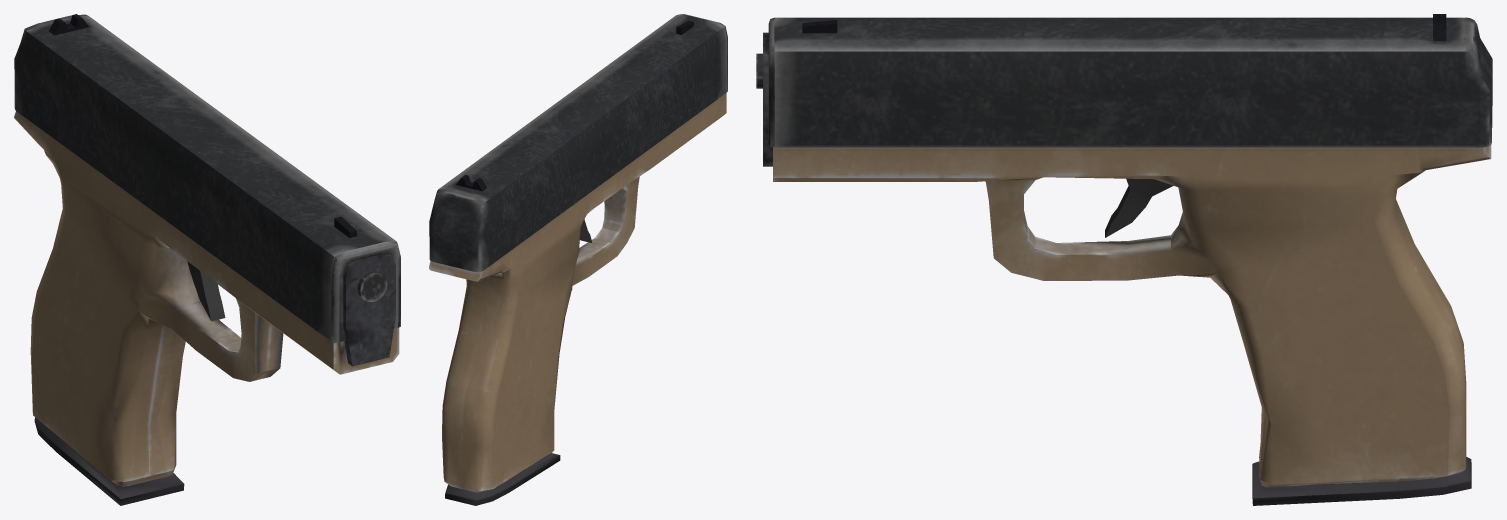
Rendered from PistolTextured.glb.
3 renders of one model, left to right at view 1: azimuth 30°, elevation 25°; view 2: azimuth 150°, elevation 25°; view 3: azimuth 270°, elevation 25°, orthographic. The views are drawn at different scales.
Visible parts, largest first — view 1: Body, Slide, front, Magazine, Trigger, Slide.001, BarrelTip; view 2: Body, Slide, Magazine, Slide.001; view 3: Body, Slide, Magazine, Trigger, front, Slide.001.
Boxes of the visible parts, x1,y1,x2,y2 form: Body: [14, 111, 399, 486]; Slide: [14, 14, 400, 342]; front: [343, 253, 395, 366]; Magazine: [34, 417, 184, 505]; Trigger: [187, 261, 225, 321]; Slide.001: [49, 14, 356, 237]; BarrelTip: [357, 271, 387, 301]; Body: [429, 93, 726, 492]; Slide: [429, 14, 727, 271]; Magazine: [445, 453, 560, 505]; Slide.001: [456, 20, 693, 191]; Body: [773, 145, 1491, 487]; Slide: [768, 17, 1492, 147]; Magazine: [1252, 457, 1471, 505]; Trigger: [1105, 178, 1173, 237]; front: [763, 32, 772, 166]; Slide.001: [802, 14, 1446, 40].
Bounding box in the file's own units: 0.0306 × 0.1772 × 0.2524.
7 materials, 6 textured.
